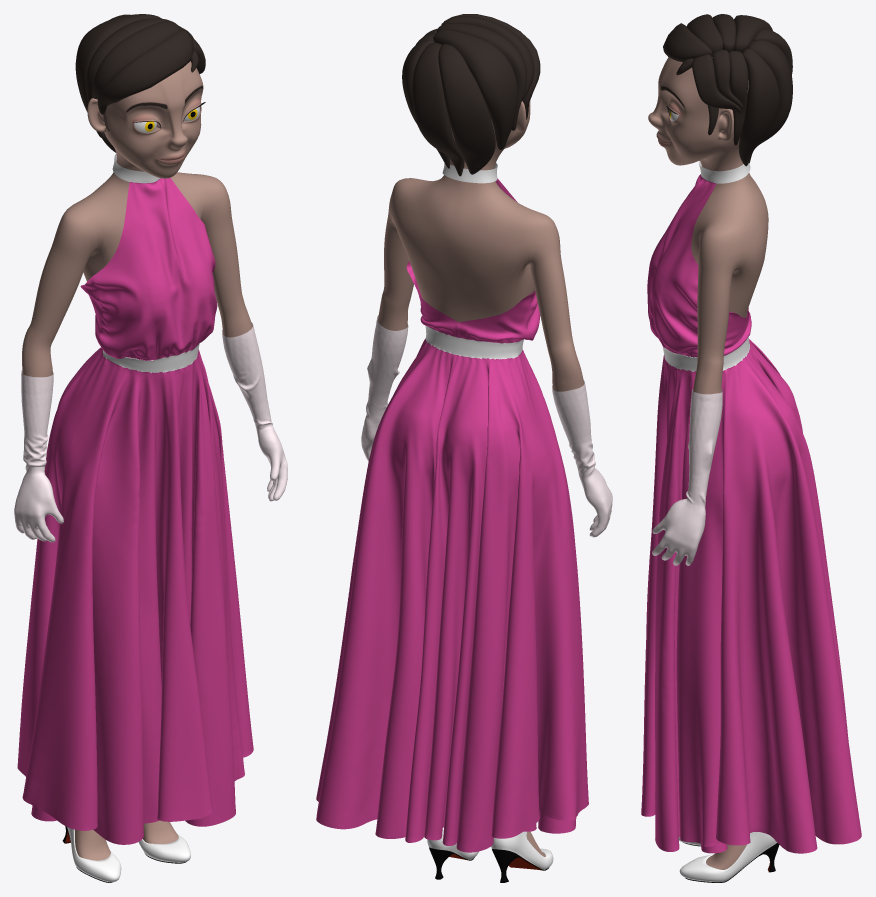
The model's file is ladra_dress.glb.
3 renders of one model, left to right at view 1: azimuth 30°, elevation 25°; view 2: azimuth 150°, elevation 25°; view 3: azimuth 270°, elevation 25°, orthographic.
Visible parts, largest first — view 1: vestito_parent, Body, gloves_diff_parent, ciocca_dx_1.002, ciocca_dx_2.002, ciocca_dx_4.002, ciocca_dx_3.002, Heel_L, Heel_R; view 2: vestito_parent, Body, gloves_diff_parent, ciocca_b_3.002, ciocca_dx_4.002, cioccab_2.002, Heel_L, ciocca_dx_3.002, ciocca_dx_2.002, ciocca_b_1.003, Heel_R, ciocca_dx_1.002; view 3: vestito_parent, Body, gloves_diff_parent, ciocca_b_1.003, Heel_R, cioccab_2.002, ciocca_sx_1.002, ciocca_sx_3.002, ciocca_dx_1.002, ciocca_dx_4.002, ciocca_dx_2.002, ciocca_sx_2.002 (+2 smaller).
Boxes of the visible parts, x1=… form: vestito_parent: x1=17, y1=154, x2=253, y2=844; Body: x1=22, y1=61, x2=252, y2=860; gloves_diff_parent: x1=14, y1=322, x2=287, y2=542; ciocca_dx_1.002: x1=97, y1=29, x2=194, y2=114; ciocca_dx_2.002: x1=91, y1=20, x2=180, y2=99; ciocca_dx_4.002: x1=75, y1=14, x2=161, y2=138; ciocca_dx_3.002: x1=86, y1=18, x2=169, y2=102; Heel_L: x1=62, y1=826, x2=121, y2=882; Heel_R: x1=138, y1=834, x2=190, y2=863; vestito_parent: x1=316, y1=163, x2=588, y2=852; Body: x1=377, y1=100, x2=584, y2=856; gloves_diff_parent: x1=361, y1=315, x2=612, y2=537; ciocca_b_3.002: x1=438, y1=44, x2=495, y2=174; ciocca_dx_4.002: x1=433, y1=30, x2=517, y2=149; cioccab_2.002: x1=412, y1=43, x2=464, y2=176; Heel_L: x1=491, y1=831, x2=553, y2=882; ciocca_dx_3.002: x1=437, y1=23, x2=527, y2=130; ciocca_dx_2.002: x1=441, y1=16, x2=534, y2=99; ciocca_b_1.003: x1=402, y1=39, x2=449, y2=168; Heel_R: x1=427, y1=827, x2=478, y2=879; ciocca_dx_1.002: x1=444, y1=14, x2=540, y2=108; vestito_parent: x1=641, y1=161, x2=861, y2=853; Body: x1=648, y1=57, x2=768, y2=869; gloves_diff_parent: x1=652, y1=389, x2=722, y2=565; ciocca_b_1.003: x1=739, y1=48, x2=779, y2=166; Heel_R: x1=679, y1=832, x2=779, y2=882; cioccab_2.002: x1=748, y1=40, x2=792, y2=163; ciocca_sx_1.002: x1=692, y1=54, x2=740, y2=112; ciocca_sx_3.002: x1=729, y1=51, x2=748, y2=145; ciocca_dx_1.002: x1=663, y1=23, x2=712, y2=62; ciocca_dx_4.002: x1=733, y1=15, x2=772, y2=52; ciocca_dx_2.002: x1=686, y1=14, x2=722, y2=53; ciocca_sx_2.002: x1=712, y1=50, x2=743, y2=108.
Bounding box in the file's own units: 0.5327 × 1.66 × 0.393.
Materials: 11 (1 with a texture image).
